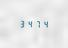four: (25, 19, 31, 27), (39, 20, 45, 28)
seven: (32, 19, 38, 28)
three: (18, 19, 24, 27)
